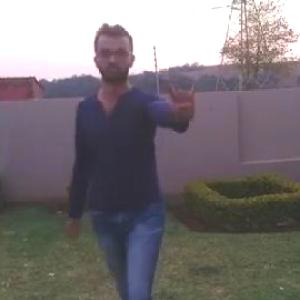takeoff-hand: (170, 69, 209, 118)
